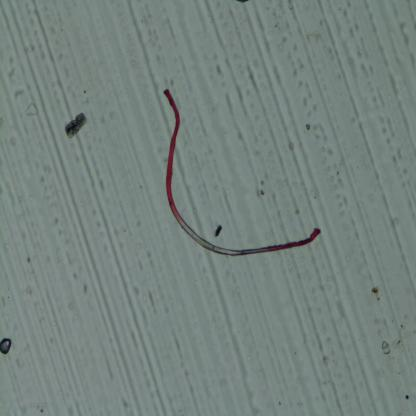Air bubble: (0, 336, 13, 358)
Background material: (322, 150, 353, 208), (220, 88, 248, 144), (248, 80, 271, 134), (275, 48, 304, 80), (392, 315, 416, 350), (66, 114, 86, 140), (251, 175, 272, 199), (25, 102, 40, 117), (212, 222, 222, 240), (381, 340, 391, 357), (372, 286, 382, 301), (321, 352, 330, 368), (148, 296, 158, 310), (284, 140, 294, 150), (305, 121, 312, 133)
Microfibre: (161, 88, 322, 258)
